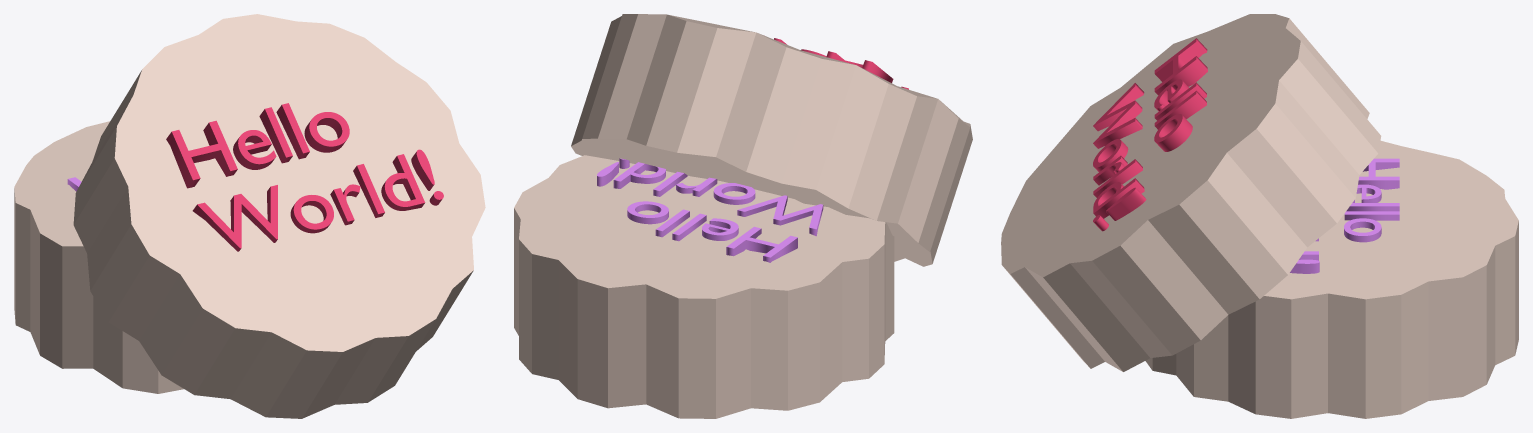
The model's file is zhongqiu-3.glb.
3 renders of one model, left to right at view 1: azimuth 30°, elevation 25°; view 2: azimuth 150°, elevation 25°; view 3: azimuth 270°, elevation 25°, orthographic. The views are drawn at different scales.
Visible parts, largest first — view 1: 柱体.002, 柱体.001, 文本.001; view 2: 柱体.001, 柱体.002, 文本, 文本.001; view 3: 柱体.002, 柱体.001, 文本.001, 文本.
Part boxes in pixels (x1,y1,x2,y2): 柱体.002: (73,14,485,418); 柱体.001: (14,121,183,393); 文本.001: (166,103,443,251); 柱体.001: (514,155,894,418); 柱体.002: (571,14,972,266); 文本: (597,158,823,262); 文本.001: (774,38,908,89); 柱体.002: (1001,14,1381,371); 柱体.001: (1145,140,1518,418); 文本.001: (1093,38,1207,231); 文本: (1290,158,1399,273).
Bounding box in the file's own units: 1.98 × 1.76 × 2.72.
